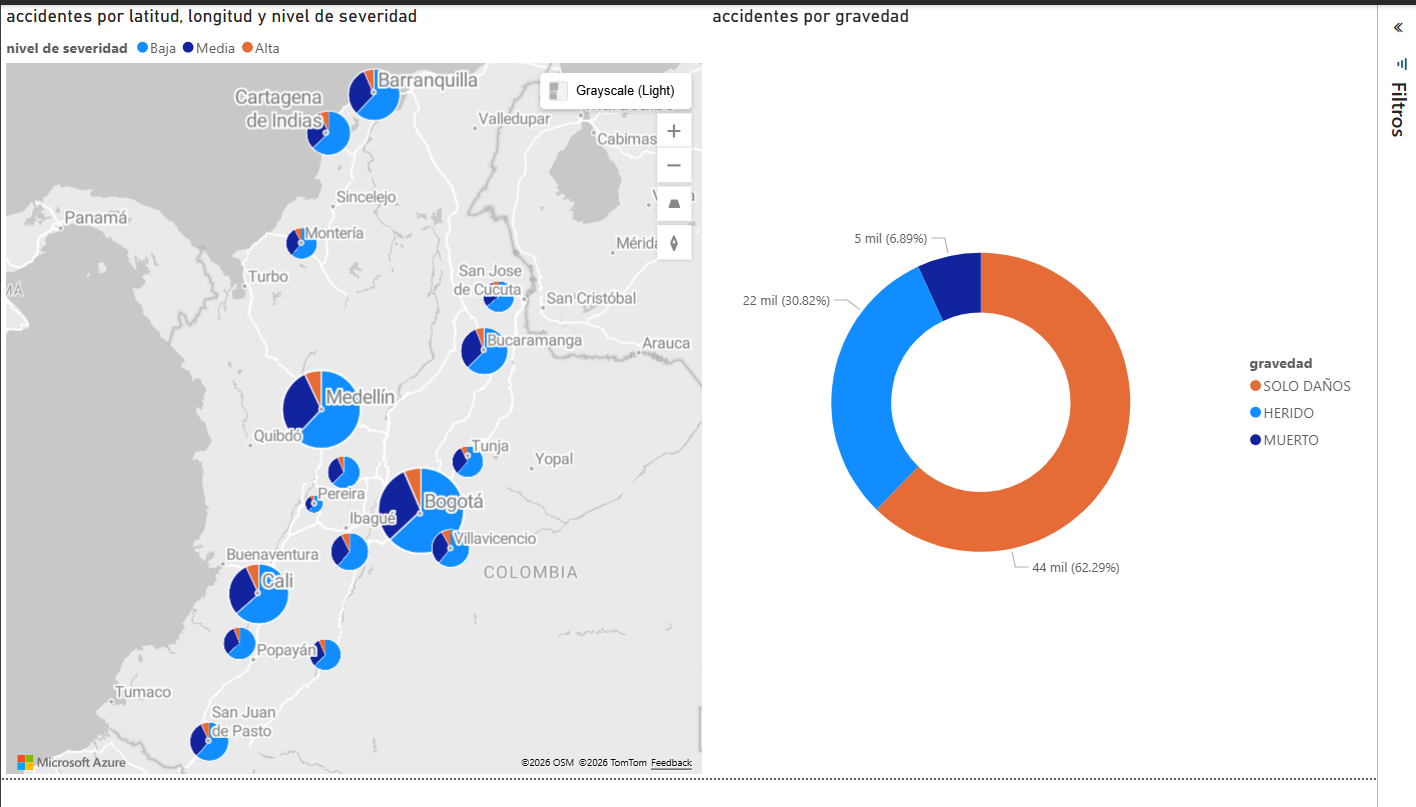

Layout of this report page (visuals, bound fields, positions):
{"tool":"powerbi","page":{"name":"Página 2","canvas":[1280,720],"ordinal":1},"visuals":[{"type":"azureMap","fields":{"Y":["dw dim_clima.latitud"],"X":["dw dim_clima.longitud"],"Size":["Sum(dw fact_accidentes.cantidad)"],"Series":["dw dim_gravedad.nivel_severidad"]},"box":[0,0,657.3,720.4],"z":0},{"type":"donutChart","fields":{"Category":["dw dim_gravedad.gravedad"],"Y":["Sum(dw fact_accidentes.cantidad)"]},"box":[657.3,0,613.4,720.4],"z":1000}]}

Visuals, with their boxes on the page's 1280x720 design canvas (x1, y1, x2, y2). These are canvas units, not pixel positions in the 1416x807 screenshot, which may show the page scaled, cropped or inside an application window:
azureMap - dw dim_clima.latitud x dw dim_clima.longitud: {"x1": 0, "y1": 0, "x2": 657, "y2": 720}
donutChart - dw dim_gravedad.gravedad x Sum(dw fact_accidentes.cantidad): {"x1": 657, "y1": 0, "x2": 1271, "y2": 720}
